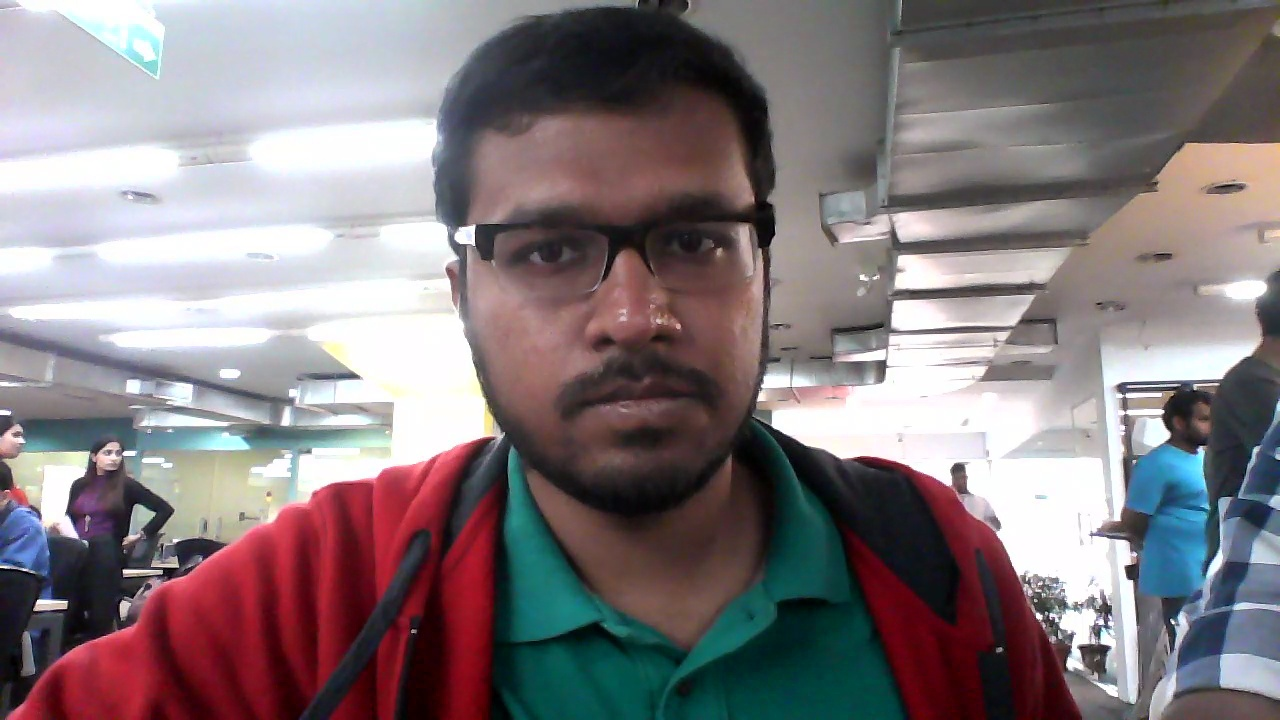open: (439, 7, 795, 494)
